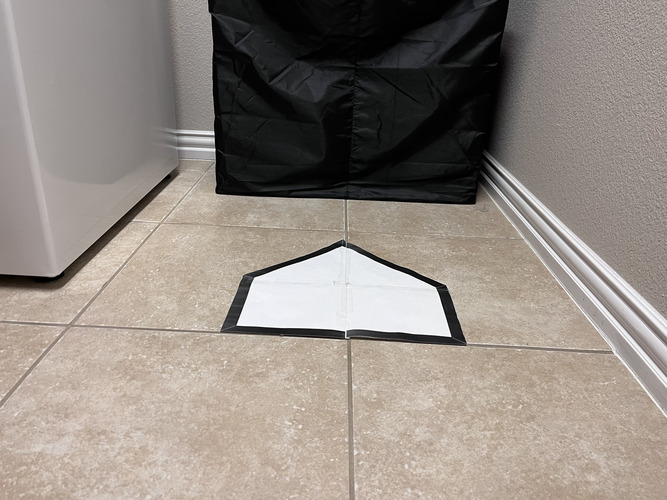homeplate: (217, 239, 466, 346)
